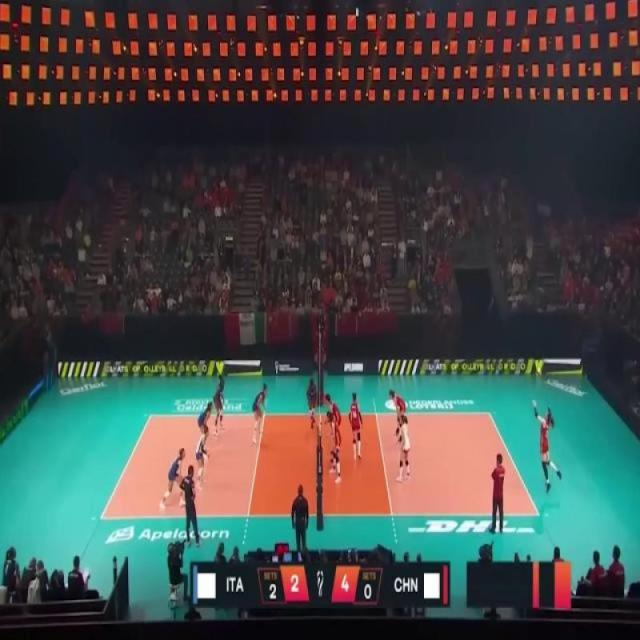volleyball: (536, 367, 542, 378)
